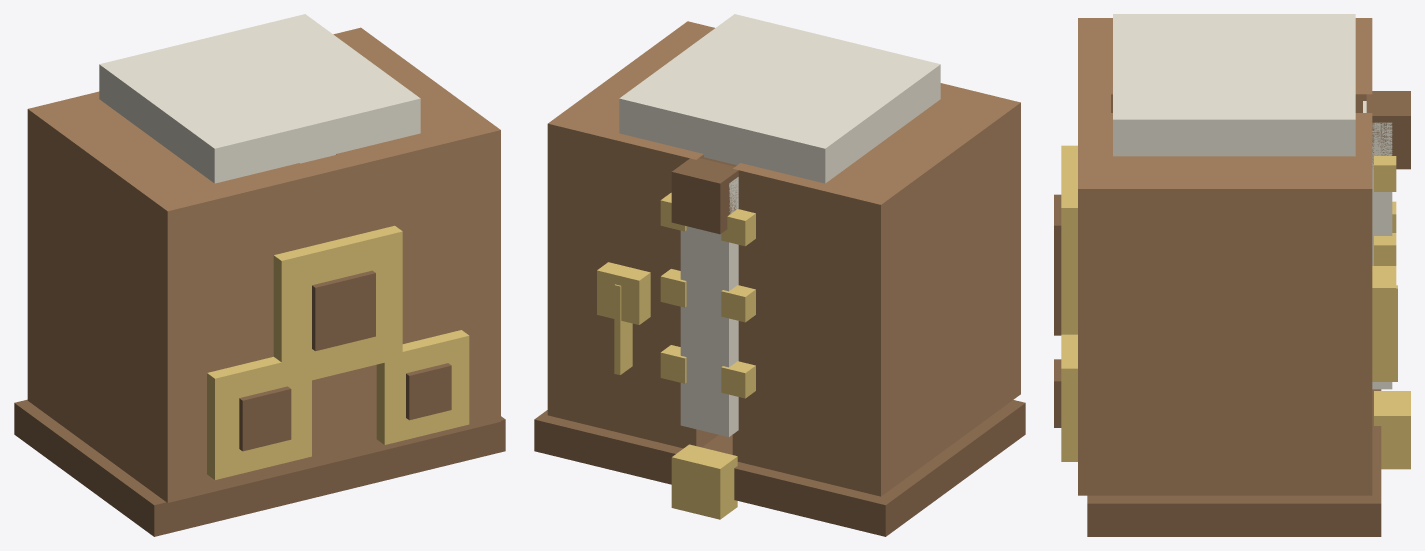
Rendered from steampunk_tronco.glb.
The picture shows the model from 3 angles, left to right: view 1: azimuth 30°, elevation 25°; view 2: azimuth 150°, elevation 25°; view 3: azimuth 270°, elevation 25°; orthographic projection. The views are drawn at different scales.
Visible parts, largest first — view 1: steampunk_tronco; view 2: steampunk_tronco; view 3: steampunk_tronco.
Part boxes in pixels (x1,y1,x2,y2): steampunk_tronco: [14, 14, 505, 536]; steampunk_tronco: [534, 14, 1025, 536]; steampunk_tronco: [1054, 14, 1410, 536].
Bounding box in the file's own units: 0.58 × 0.585 × 0.485.
